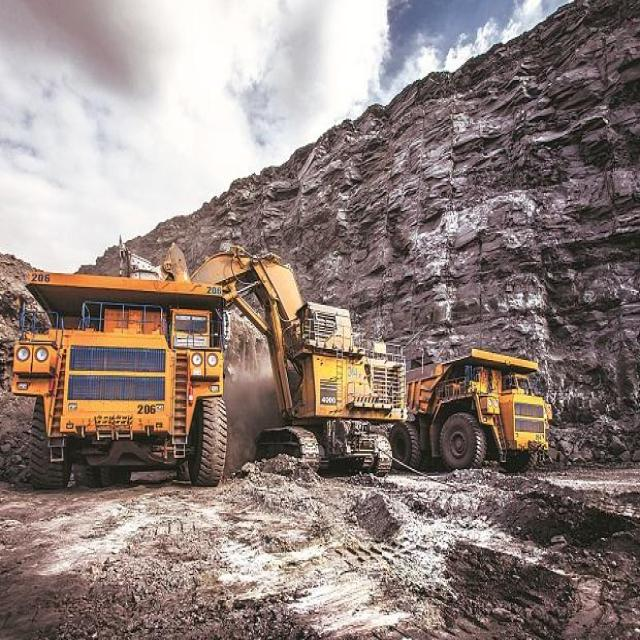dump_truck: (18, 265, 231, 493), (409, 348, 549, 475)
excavator: (115, 239, 408, 477)
